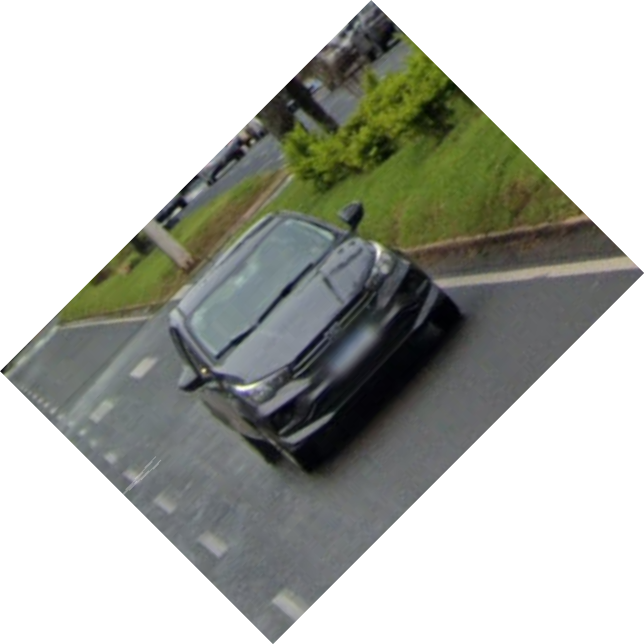car: (164, 197, 473, 479)
